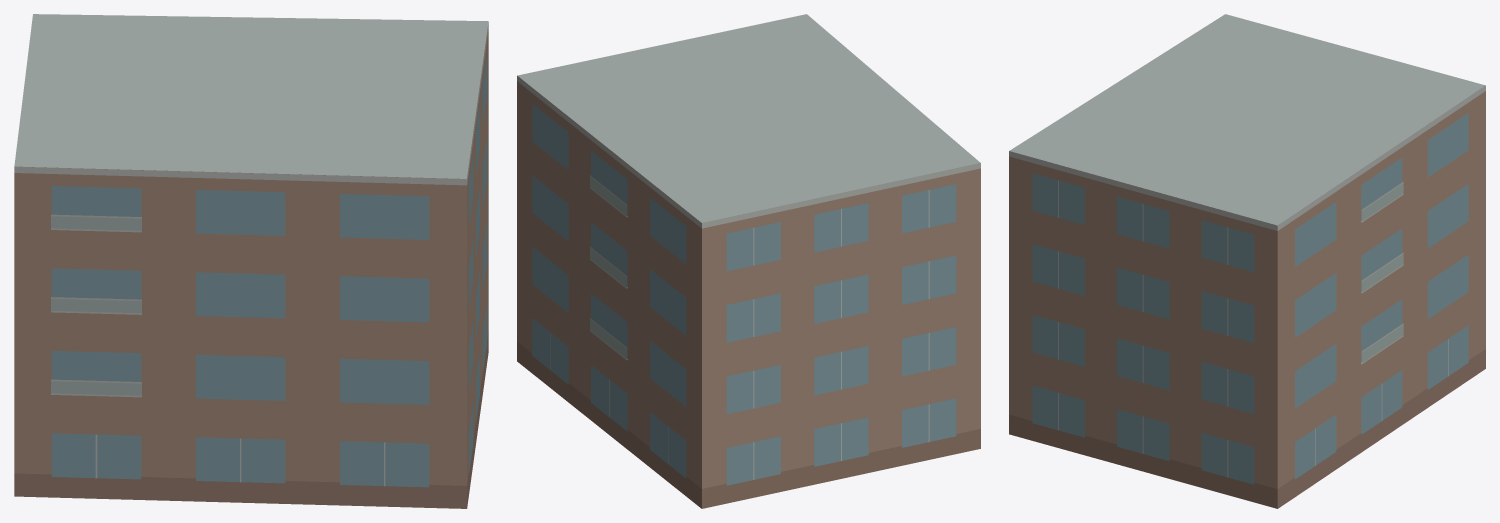
File: survey-upis-32775801.glb
3 views of the same model, side by side, from view 1: azimuth 30°, elevation 25°; view 2: azimuth 150°, elevation 25°; view 3: azimuth 270°, elevation 25° (orthographic). The views are drawn at different scales.
Parts seen in each view (by area): view 1: survey-upis-32775801.tmp; view 2: survey-upis-32775801.tmp; view 3: survey-upis-32775801.tmp.
Part boxes in pixels (x1=…): survey-upis-32775801.tmp: x1=14, y1=14, x2=488, y2=508; survey-upis-32775801.tmp: x1=517, y1=14, x2=980, y2=508; survey-upis-32775801.tmp: x1=1009, y1=14, x2=1485, y2=508.
Bounding box in the file's own units: 20.18 × 12.6 × 19.22.
